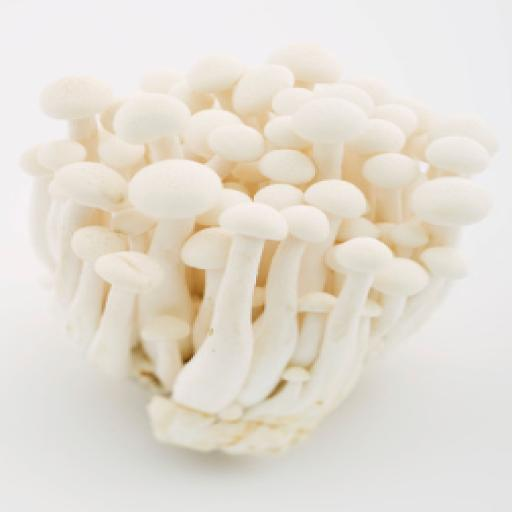Enoki Mushroom: (0, 5, 512, 487)
